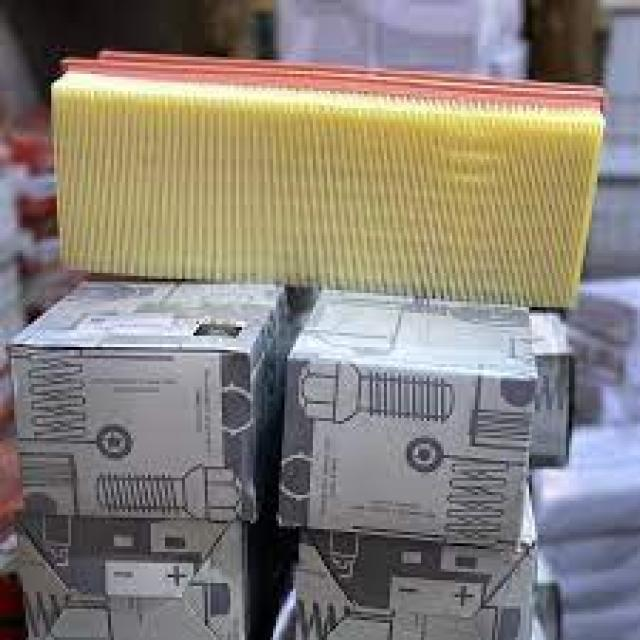air_filter: (32, 76, 618, 286)
